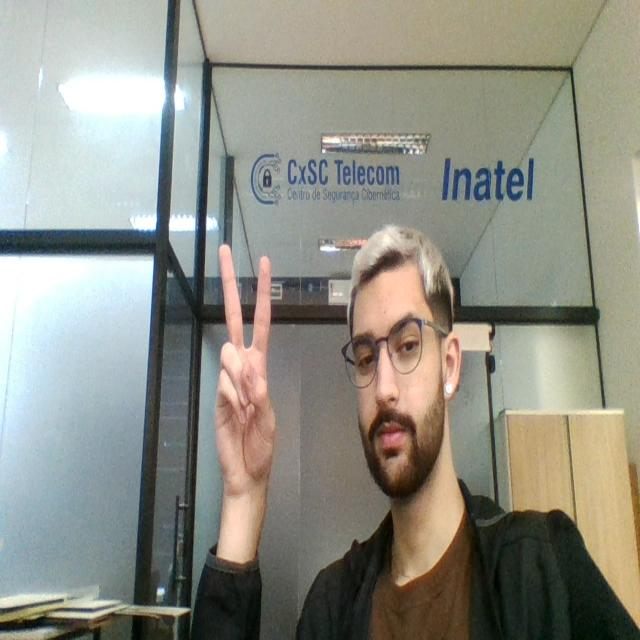V: (214, 233, 281, 519)
